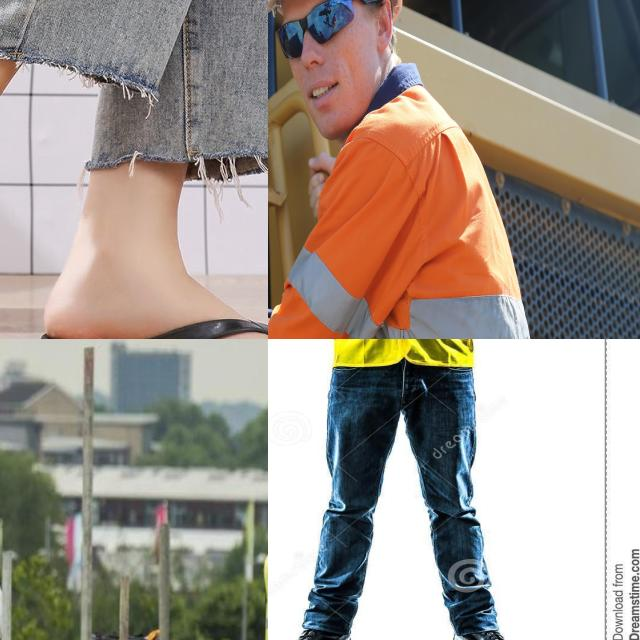No_Ear-Protection: (369, 0, 397, 62)
Sandals: (0, 85, 268, 339)
face_nomask: (275, 0, 395, 139)
glasses: (275, 0, 355, 67)
person: (268, 0, 554, 339), (278, 339, 532, 640)
shoes: (269, 623, 353, 640), (436, 629, 535, 640)
vest: (317, 137, 551, 339)
